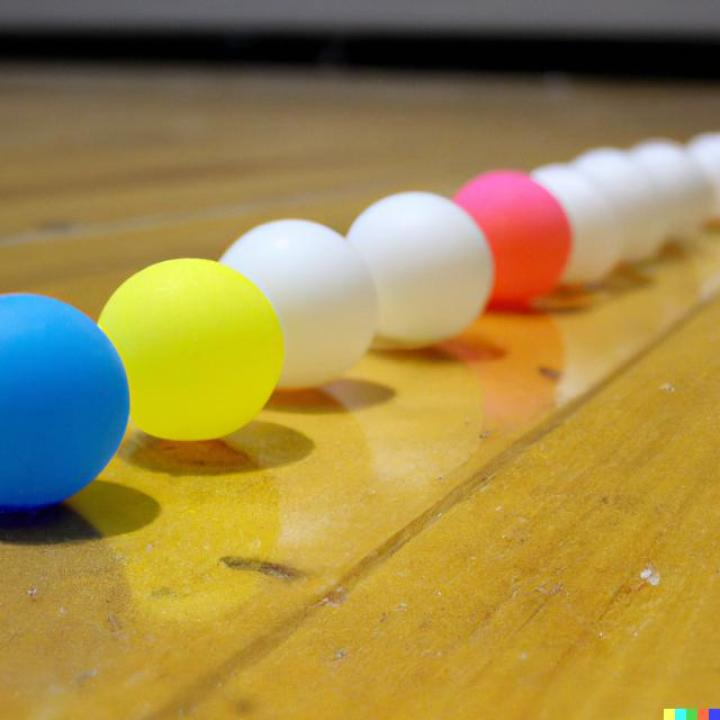white: (220, 217, 381, 392), (347, 192, 495, 349)
